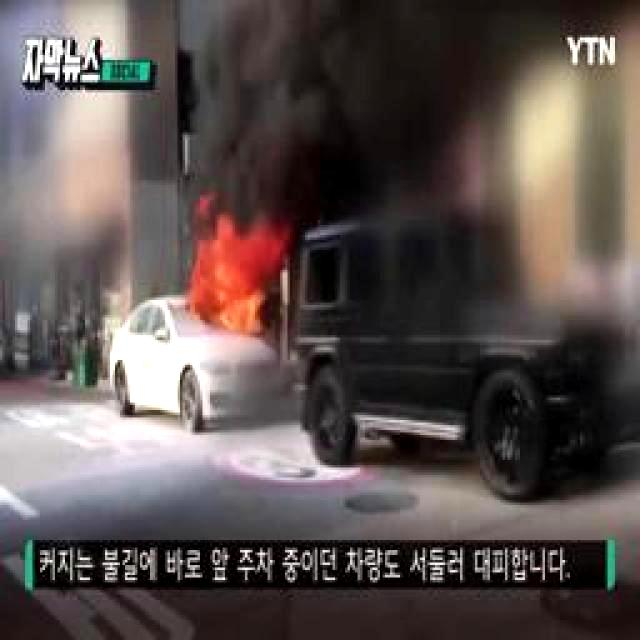Fire: (193, 238, 269, 332)
Smoke: (176, 6, 360, 230)
